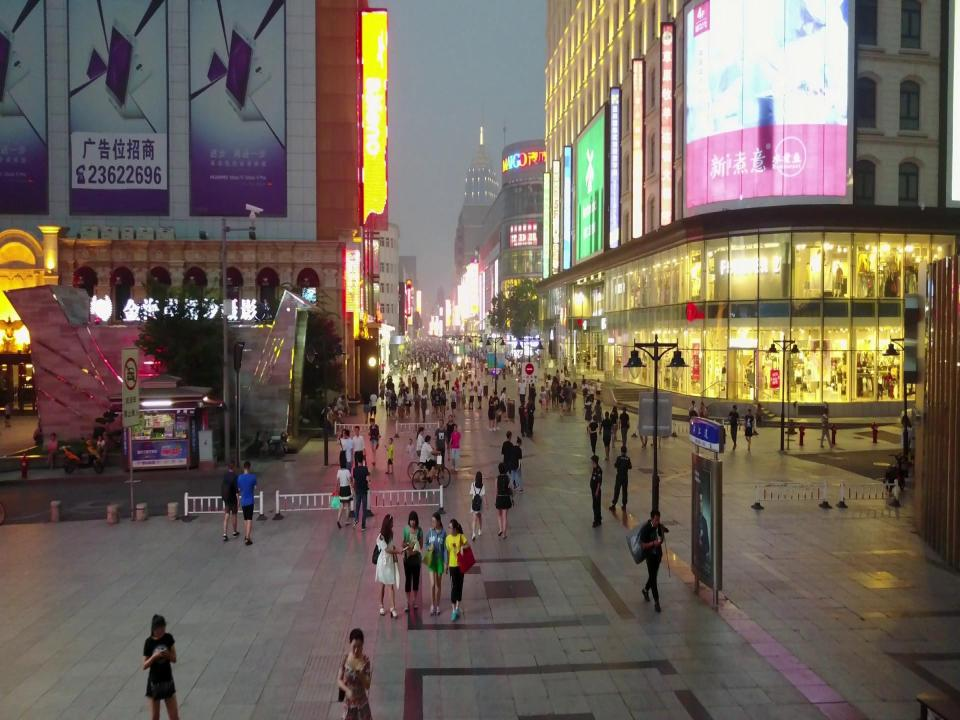car: (900, 401, 948, 430)
